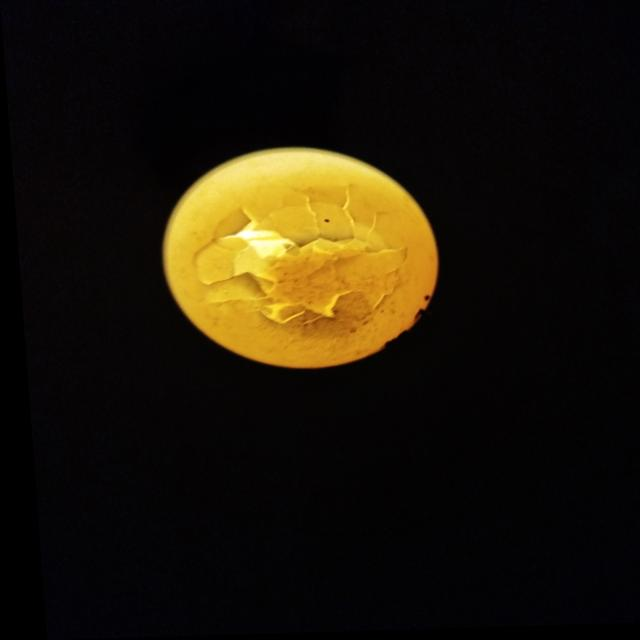Rachadura: (186, 190, 405, 326)
